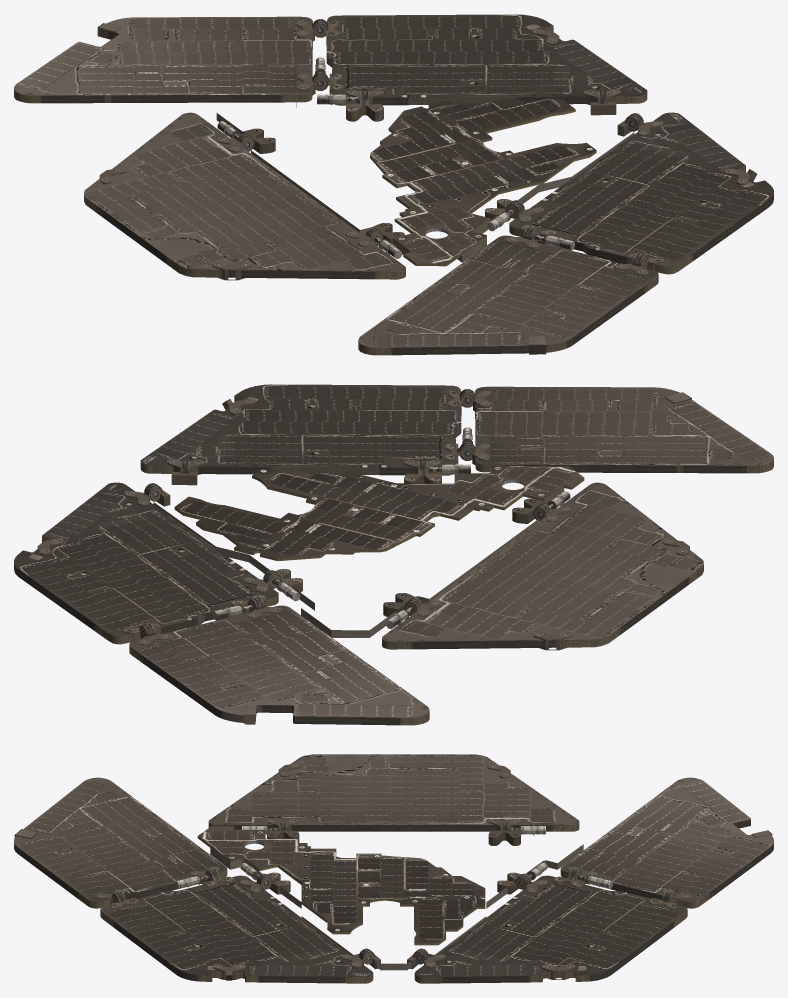
Rendered from mer-solar.glb.
3 renders of one model, top to bottom at view 1: azimuth 30°, elevation 25°; view 2: azimuth 150°, elevation 25°; view 3: azimuth 270°, elevation 25°, orthographic. The views are drawn at different scales.
Visible parts, largest first — view 1: Cube000, Cube000_1; view 2: Cube000, Cube000_1; view 3: Cube000, Cube000_1.
Boxes of the visible parts, x1=… form: Cube000: x1=14, y1=14, x2=773, y2=355; Cube000_1: x1=99, y1=19, x2=757, y2=280; Cube000: x1=14, y1=384, x2=773, y2=725; Cube000_1: x1=37, y1=389, x2=689, y2=650; Cube000: x1=14, y1=754, x2=773, y2=983; Cube000_1: x1=96, y1=763, x2=691, y2=980.
Bounding box in the file's own units: 2.64 × 0.0882 × 3.81.
2 materials, 2 textured.
